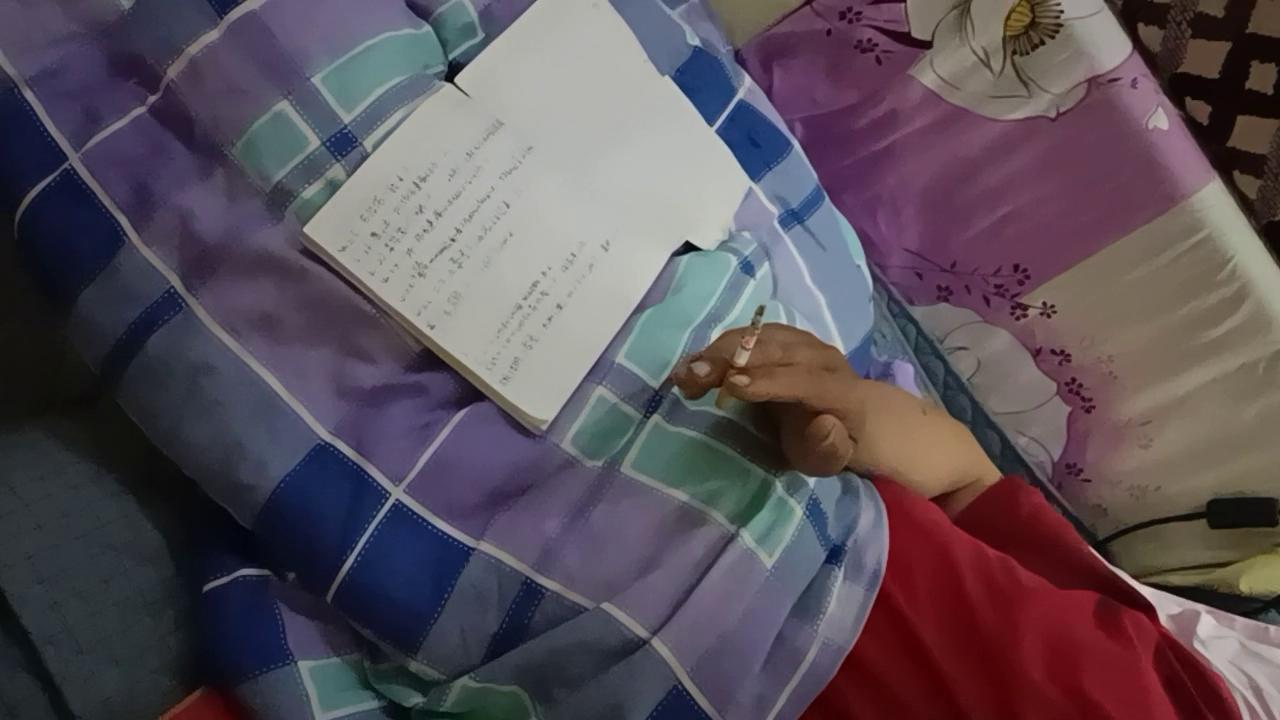smoke: (714, 304, 766, 411)
